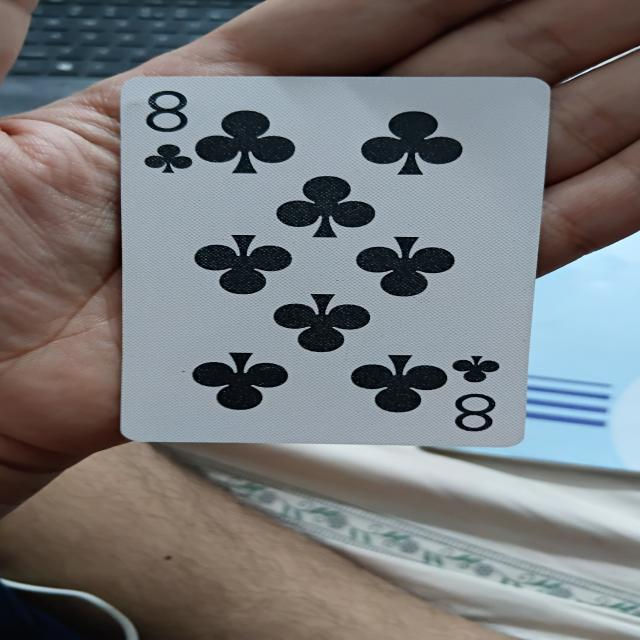8C: (120, 72, 543, 446)
